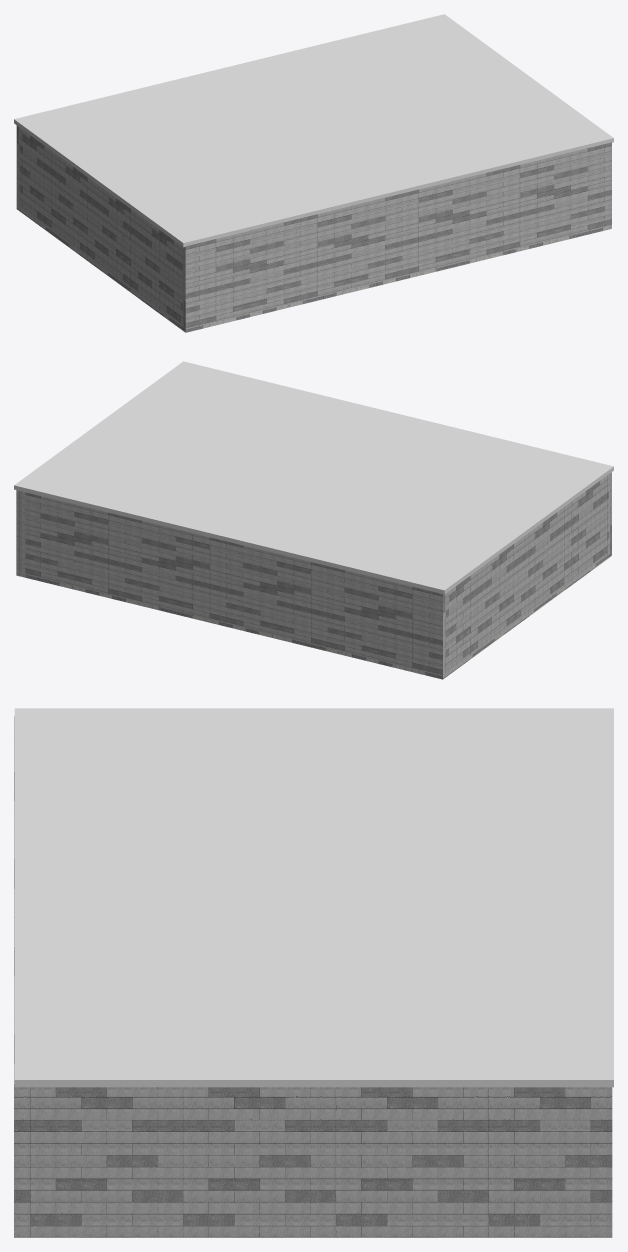
Rendered from galleryInBrick.glb.
3 views of the same model, one above another, from view 1: azimuth 30°, elevation 25°; view 2: azimuth 150°, elevation 25°; view 3: azimuth 270°, elevation 25° (orthographic). The views are drawn at different scales.
Visible parts, largest first — view 1: ceiling, walls; view 2: ceiling, walls; view 3: ceiling, walls.
Part boxes in pixels (x1,y1,x2,y2): ceiling: (14,14,613,247); walls: (16,125,611,332); ceiling: (14,361,613,594); walls: (16,472,611,679); ceiling: (14,708,613,1087); walls: (14,716,612,1237).
Size of the model in its own units: 29.39 by 5.87 by 20.05.
4 materials, 3 textured.
